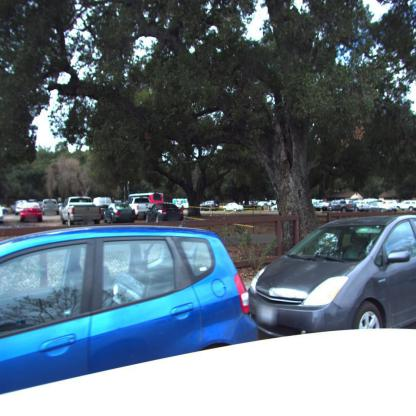car: (0, 226, 260, 413), (245, 218, 416, 336), (60, 195, 101, 225), (128, 193, 164, 220), (145, 202, 184, 223), (102, 202, 138, 224), (16, 200, 42, 221), (328, 200, 356, 212), (42, 199, 61, 216), (312, 200, 330, 212), (222, 202, 243, 211), (199, 200, 218, 208)
